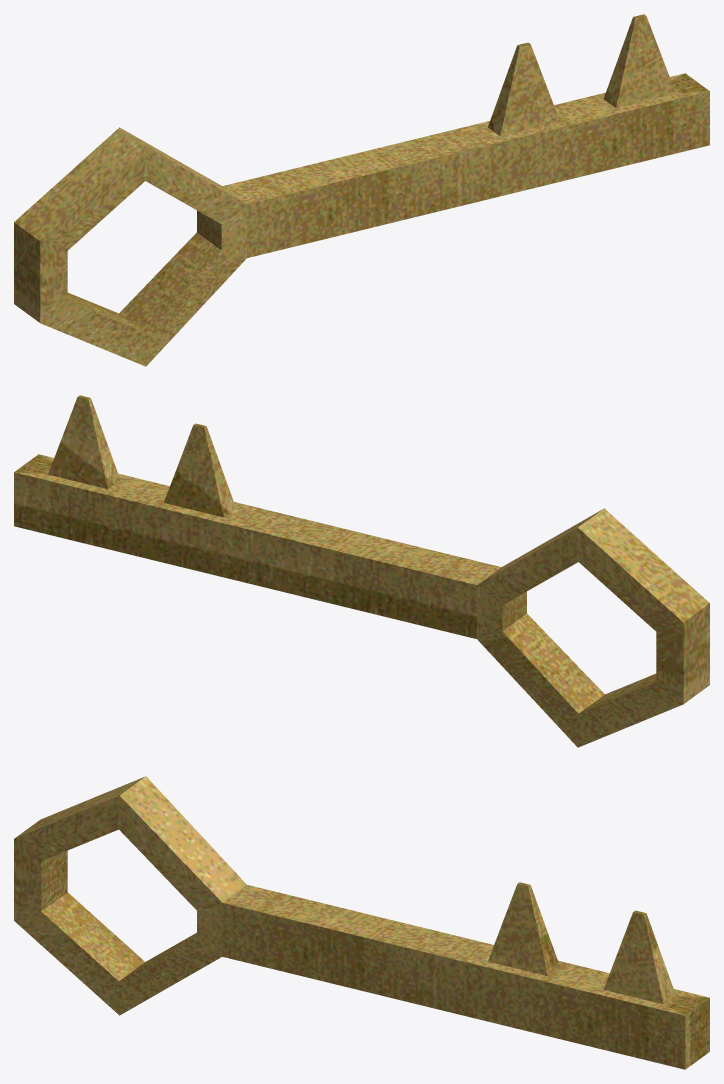
File: Key_Gold.obj
3 renders of one model, top to bottom at view 1: azimuth 30°, elevation 25°; view 2: azimuth 150°, elevation 25°; view 3: azimuth 330°, elevation 25°, orthographic.
Visible parts, largest first — view 1: Gold_Key_Cylinder; view 2: Gold_Key_Cylinder; view 3: Gold_Key_Cylinder.
Part boxes in pixels (x1=…): Gold_Key_Cylinder: x1=14, y1=14, x2=709, y2=366; Gold_Key_Cylinder: x1=14, y1=395, x2=709, y2=747; Gold_Key_Cylinder: x1=14, y1=776, x2=709, y2=1069.
Size of the model in its own units: 0.9472 by 0.2971 by 0.0648.
